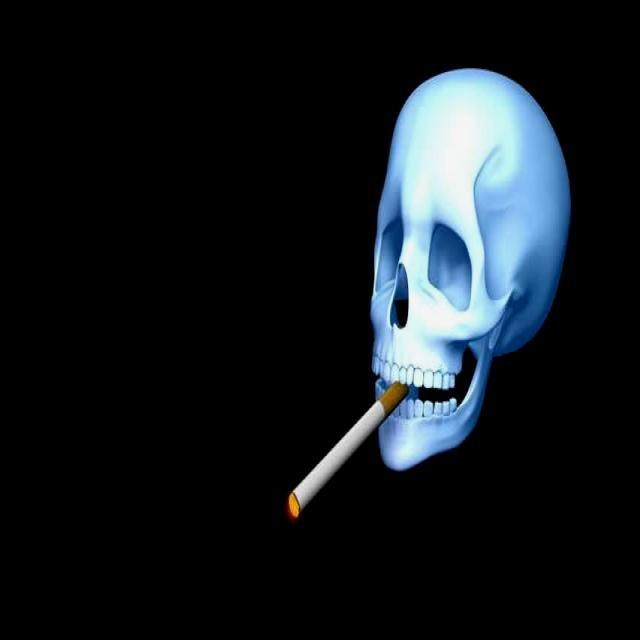Smooking: (270, 384, 406, 531)
